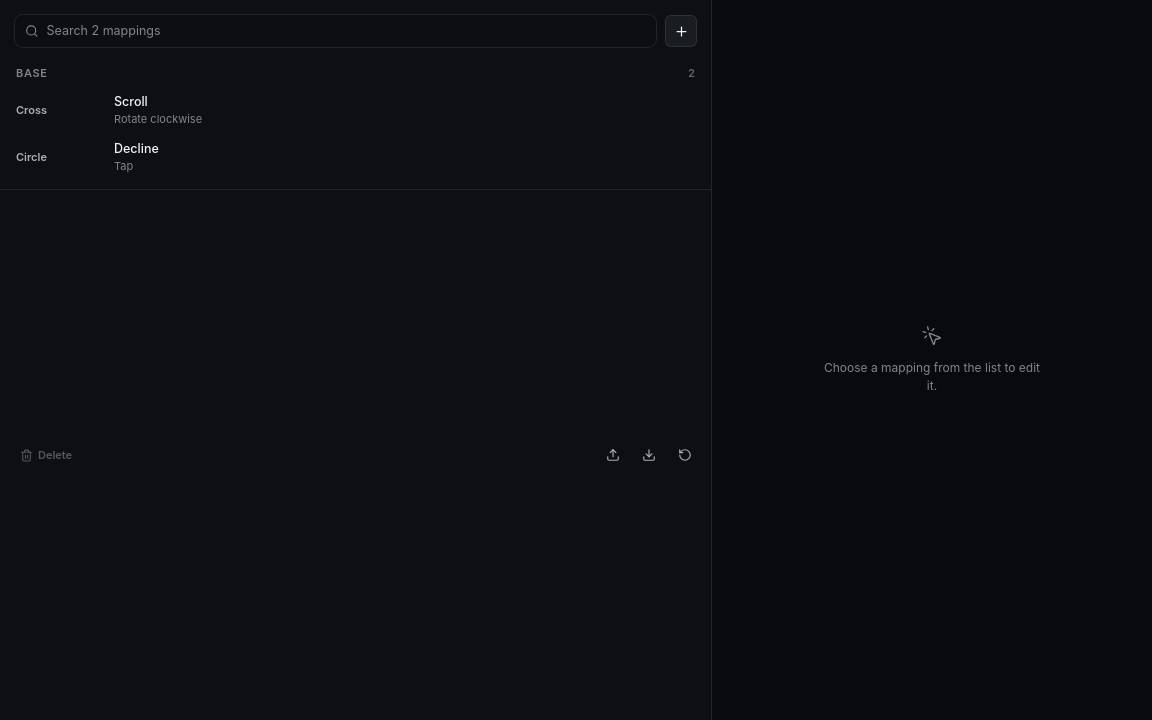
it: gesture labels › finds a mapping by the label the row shows
Type "rotate" into the field named "Search mappings" at (351, 31), box [46,15,656,47]
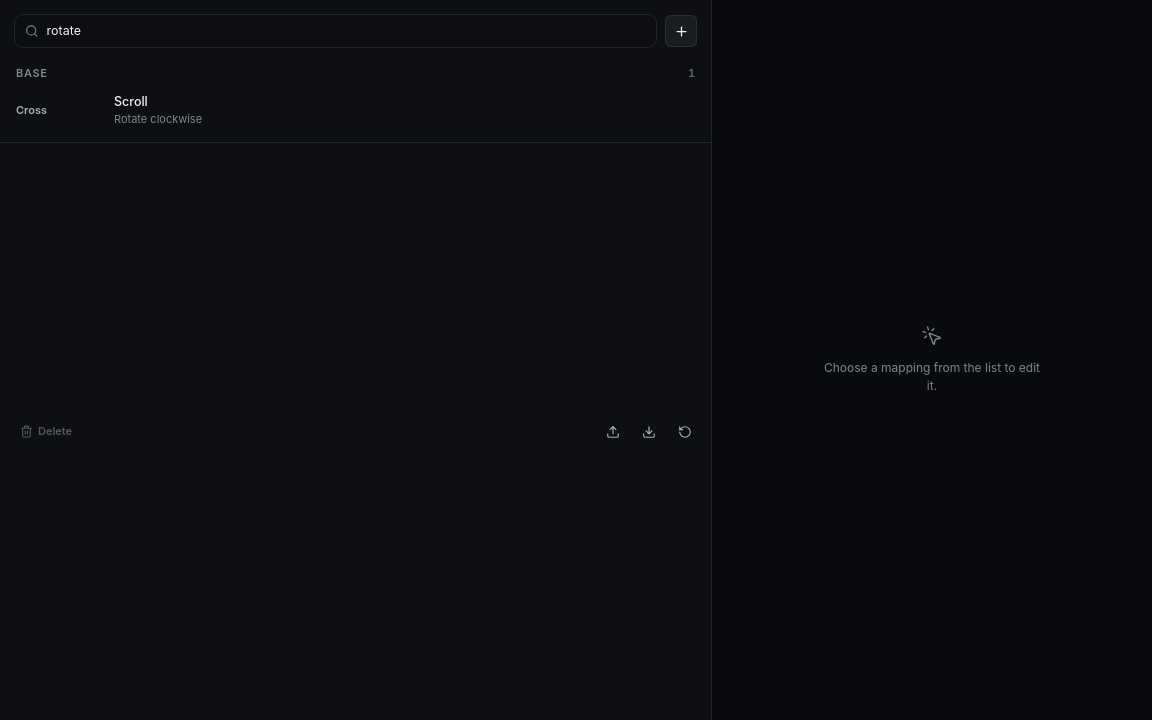
Check: the text "Scroll" is shown, box [114,94,148,109]
Check: the button "Decline" is gone
